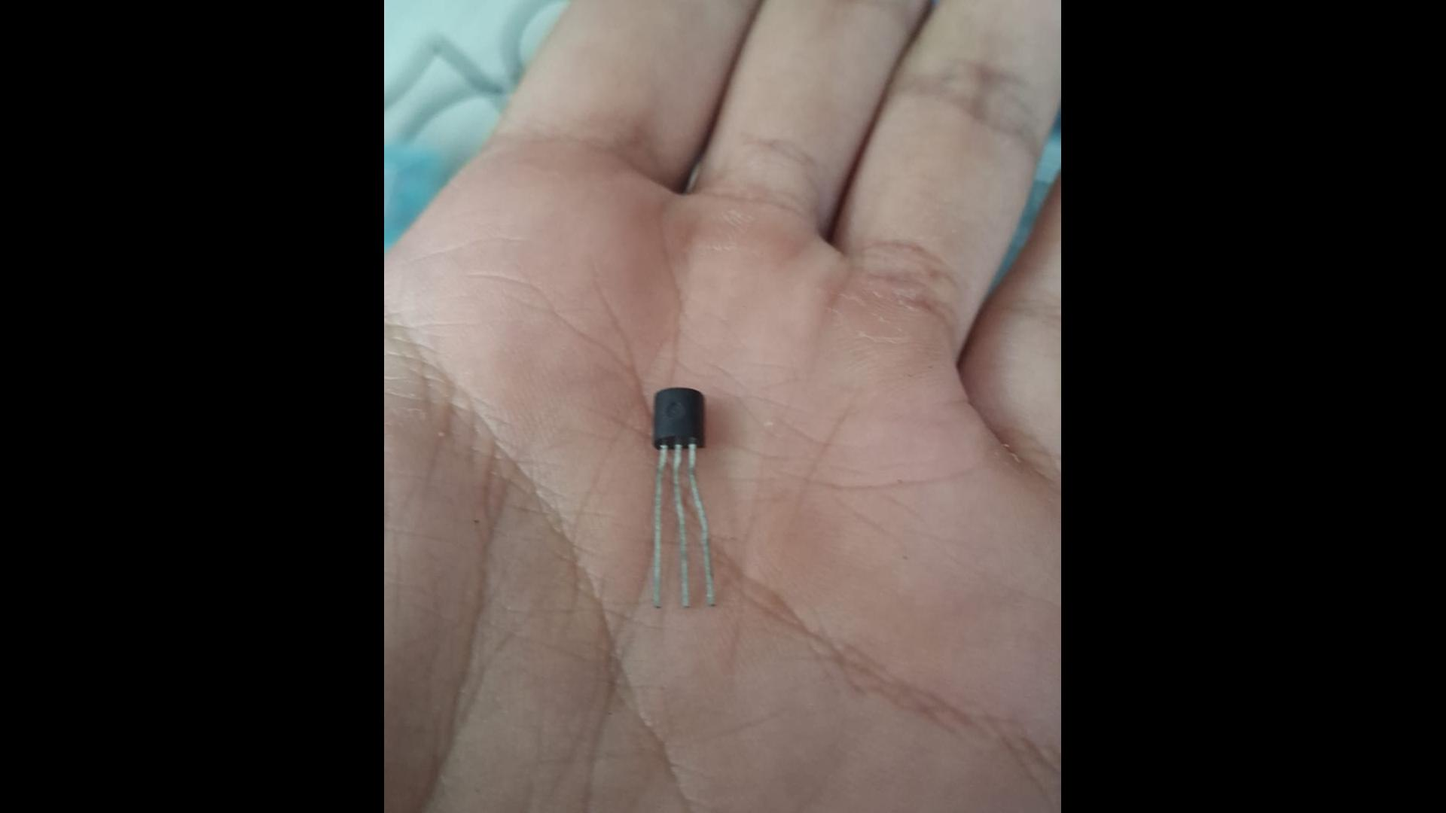Transistor: (652, 386, 717, 609)
